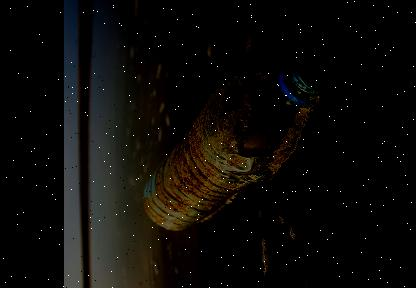Plastic Bottle: (144, 55, 326, 229)
